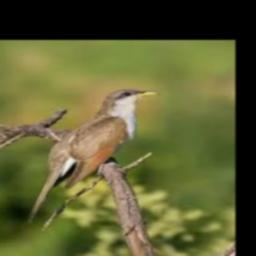Cuckoo: (28, 89, 159, 222)
